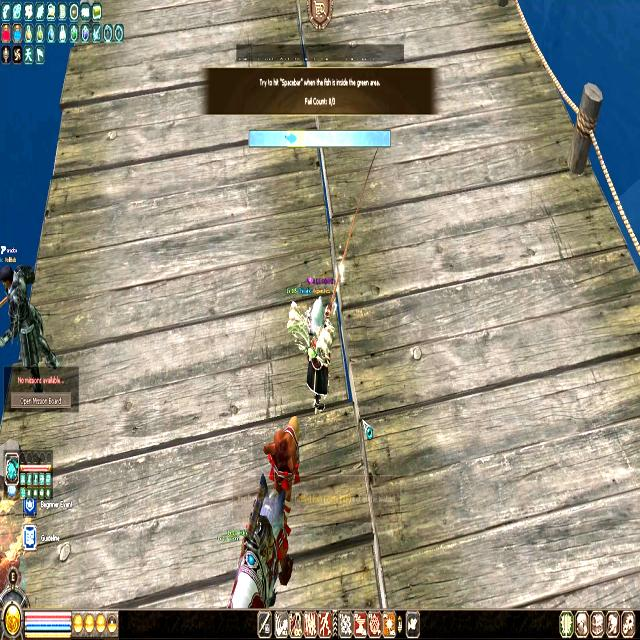fishes: (285, 130, 297, 146)
